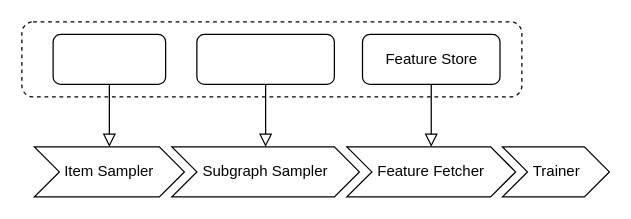
The diagram is 631 pixels wide and 219 high, and some of its shapes have lost their labels. The centre of each missing label's shape, as x and y in pixels:
"Sampling Graph" goes at point 265,58.
"Seeds" goes at point 109,58.
